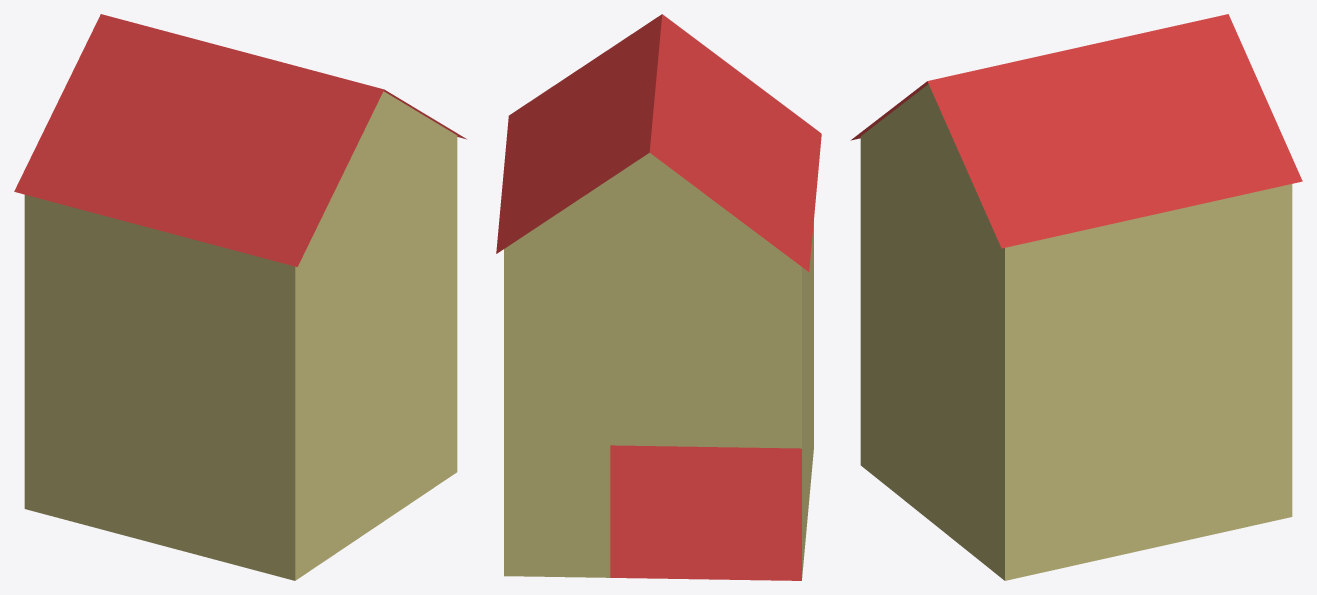
3 views of the same model, side by side, from view 1: azimuth 30°, elevation 25°; view 2: azimuth 150°, elevation 25°; view 3: azimuth 270°, elevation 25° (orthographic). The views are drawn at different scales.
Bounding box in the file's own units: 14.2 × 14.41 × 15.62.
